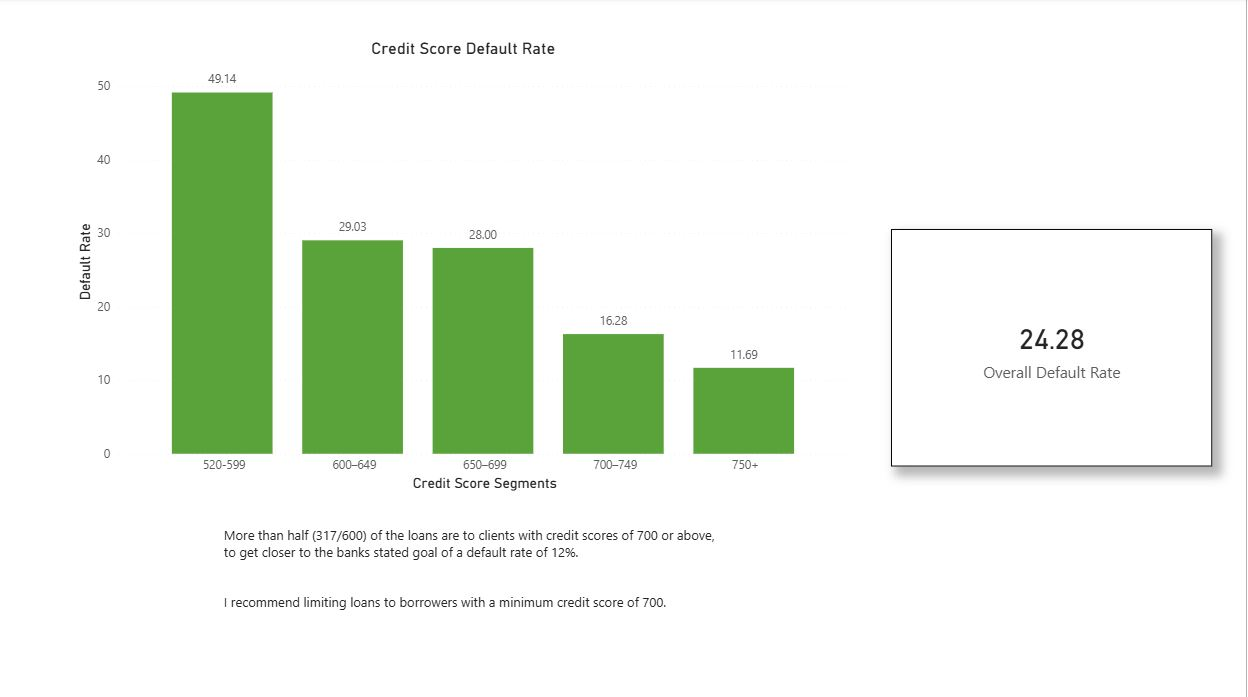

This screenshot's page, from the dashboard's own definition file:
{"tool":"powerbi","page":{"name":"Credit Score","canvas":[1280,720],"ordinal":1},"visuals":[{"type":"clusteredColumnChart","title":"Credit Score Default Rate ","fields":{"Category":["credscore_segment_default_rate.Credit_bucket"],"Y":["Sum(credscore_segment_default_rate.Default_Rate)"]},"box":[74.5,40.7,804.1,470.1],"z":0},{"type":"textbox","box":[224.6,538.8,515.5,133.8],"z":1000},{"type":"card","fields":{"Values":["Avg(loan_purpose_default_rate.Default_Rate)"]},"box":[915.8,237.4,330.5,244.4],"z":2000}]}

Visuals, with their boxes in screenshot pixels (x1, y1, x2, y2), scaled from the page's 1280x720 canvas onto the 1248x697 screenshot:
"Credit Score Default Rate " clusteredColumnChart: 73:39:857:494
textbox: 219:522:722:651
card - Avg(loan_purpose_default_rate.Default_Rate): 893:230:1215:466
